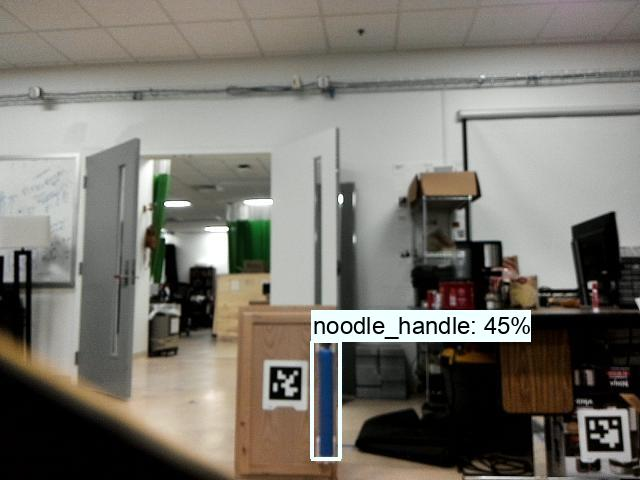noodle_handle: (312, 342, 339, 460)
